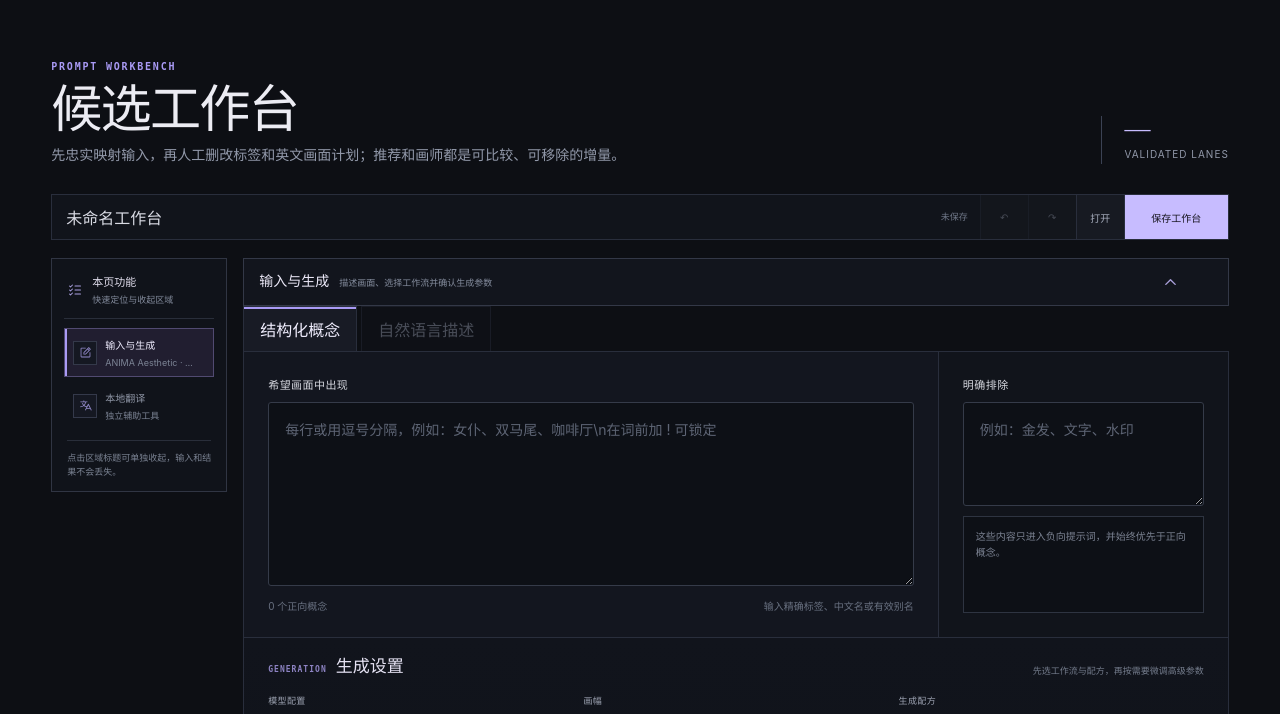
Test: previews V2 local translation without compiling it into candidates
Type "一个女孩，白发" into the text box labelled "希望画面中出现".
click(591, 494); type("一个女孩，白发")  # box top-left (268, 402), bottom-right (914, 586)
(page scrolled)
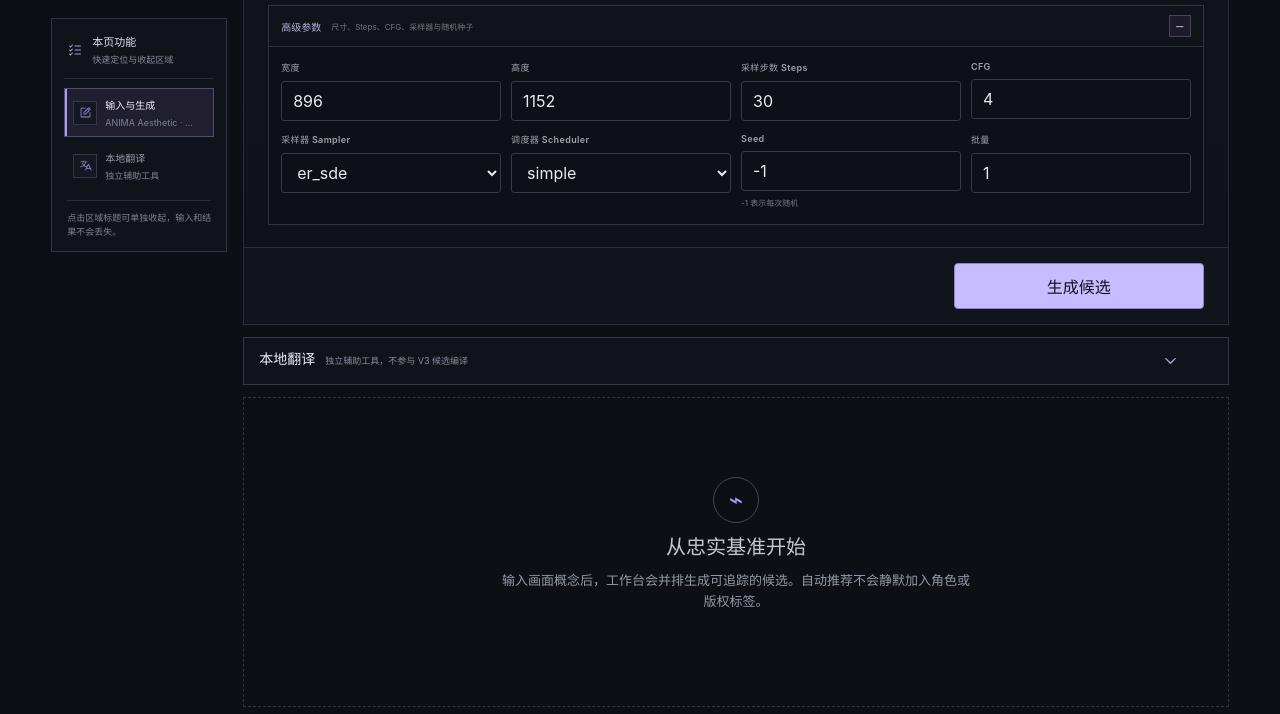
Click the button with aria-label "展开本地翻译".
click(287, 360)  # box top-left (243, 337), bottom-right (1229, 385)
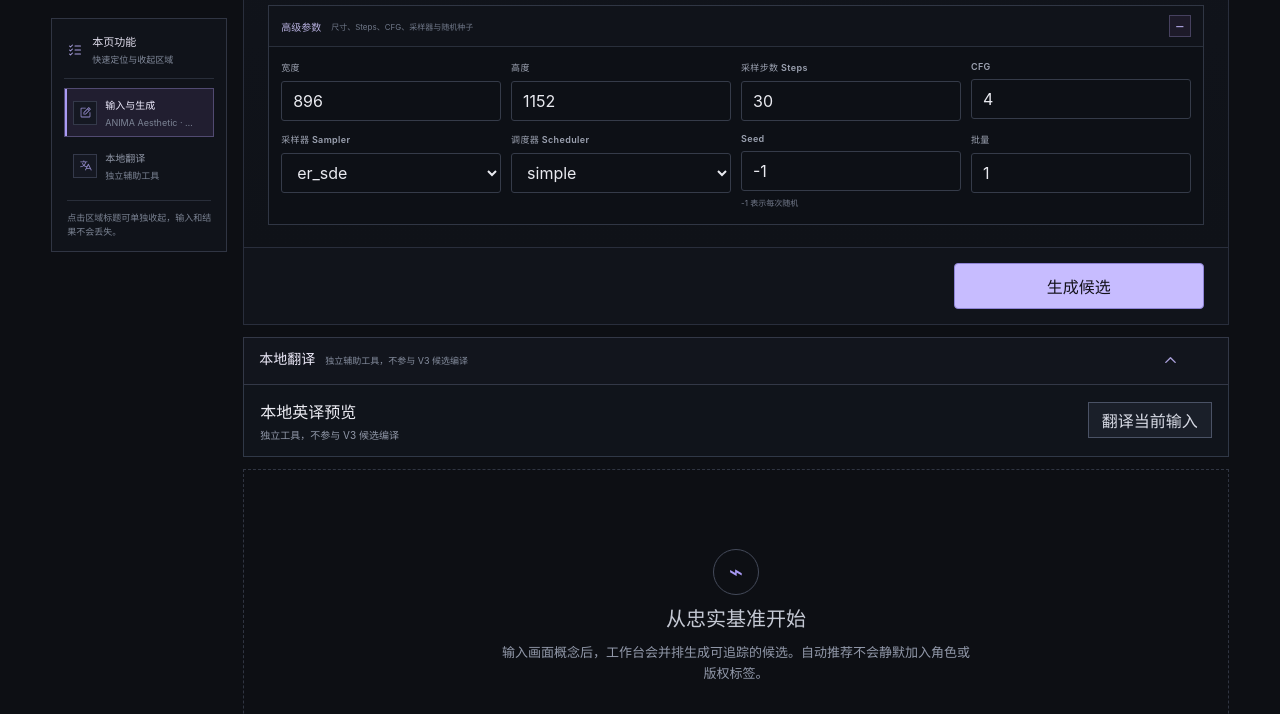
Click the button "翻译当前输入".
click(1150, 420)  # box top-left (1088, 402), bottom-right (1212, 438)
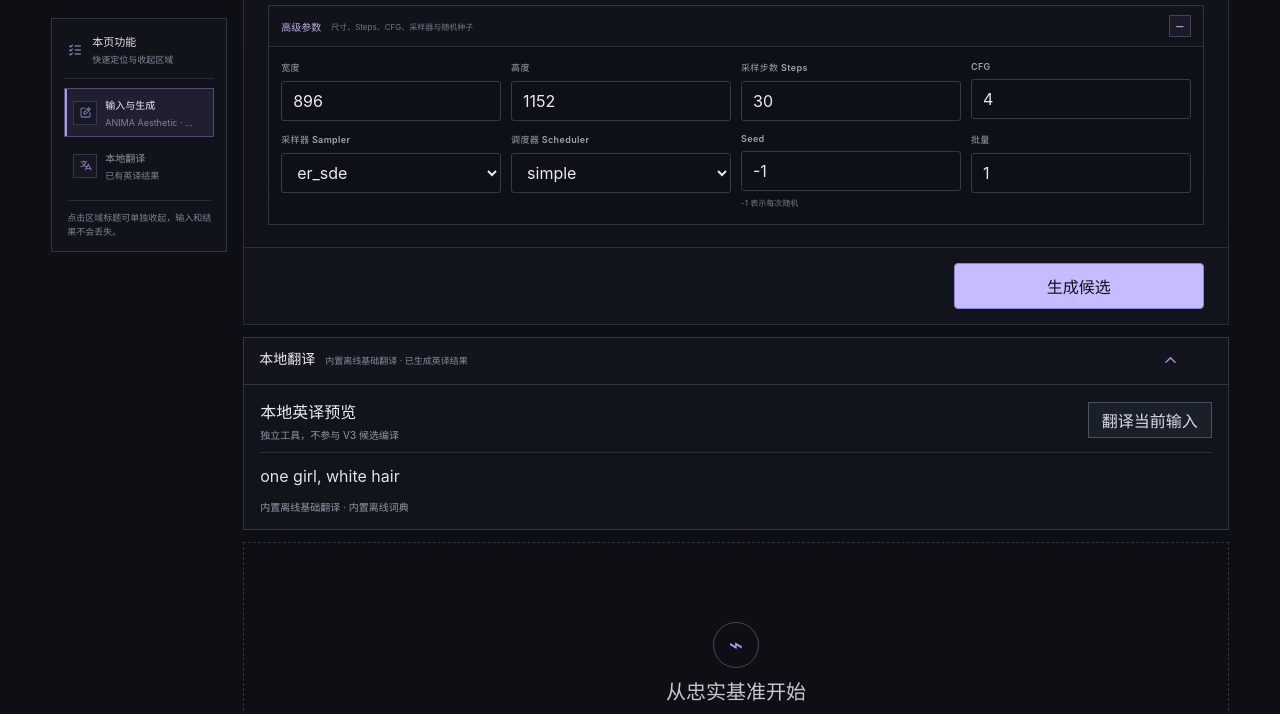
Expected: the text "独立工具，不参与 V3 候选编译" is shown, top-left (260, 429), bottom-right (399, 441)
Expected: the text "one girl, white hair" is shown, top-left (260, 466), bottom-right (400, 486)
